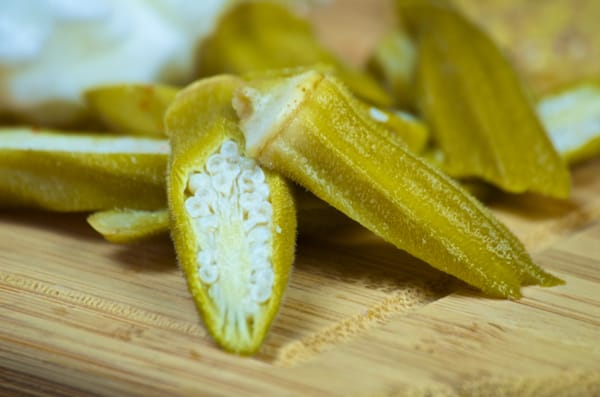pasta: (0, 126, 173, 217)
